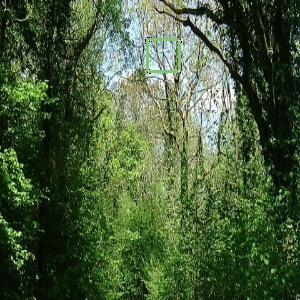square: (143, 35, 183, 75)
